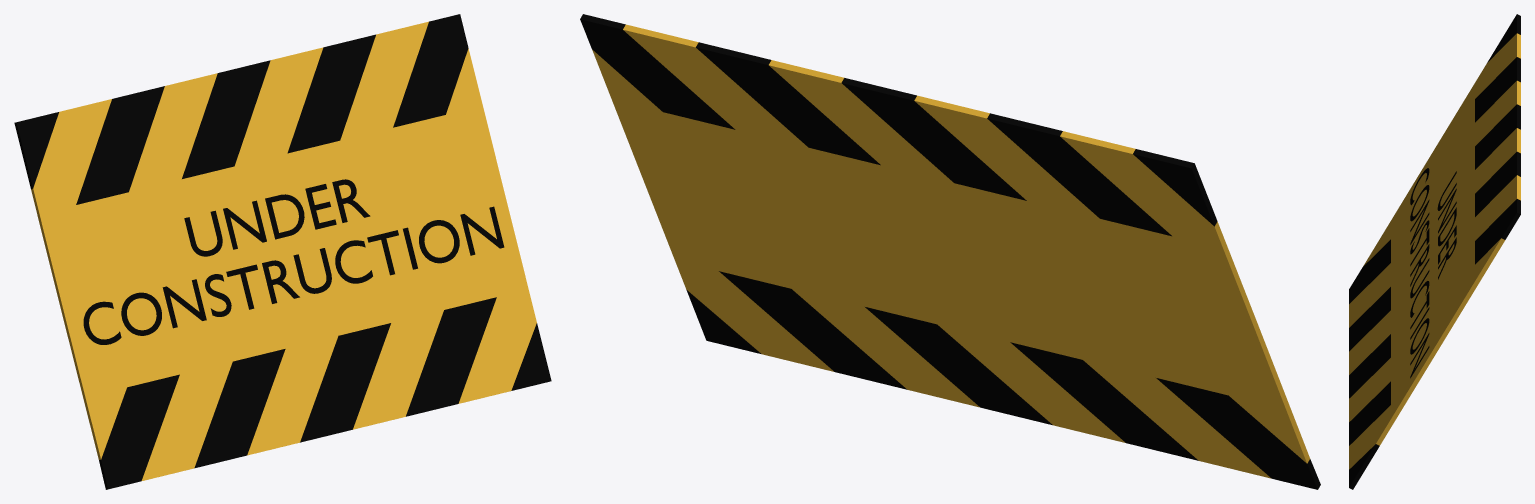
File: constructionsign.glb
The picture shows the model from 3 angles, left to right: view 1: azimuth 30°, elevation 25°; view 2: azimuth 150°, elevation 25°; view 3: azimuth 270°, elevation 25°; orthographic projection. The views are drawn at different scales.
Visible parts, largest first — view 1: Plane; view 2: Plane; view 3: Plane.
Boxes of the visible parts, bbox=[...] form: Plane: bbox=[14, 14, 551, 489]; Plane: bbox=[580, 14, 1320, 489]; Plane: bbox=[1349, 14, 1520, 489].
Bounding box in the file's own units: 1.02 × 0.6662 × 0.3744.
